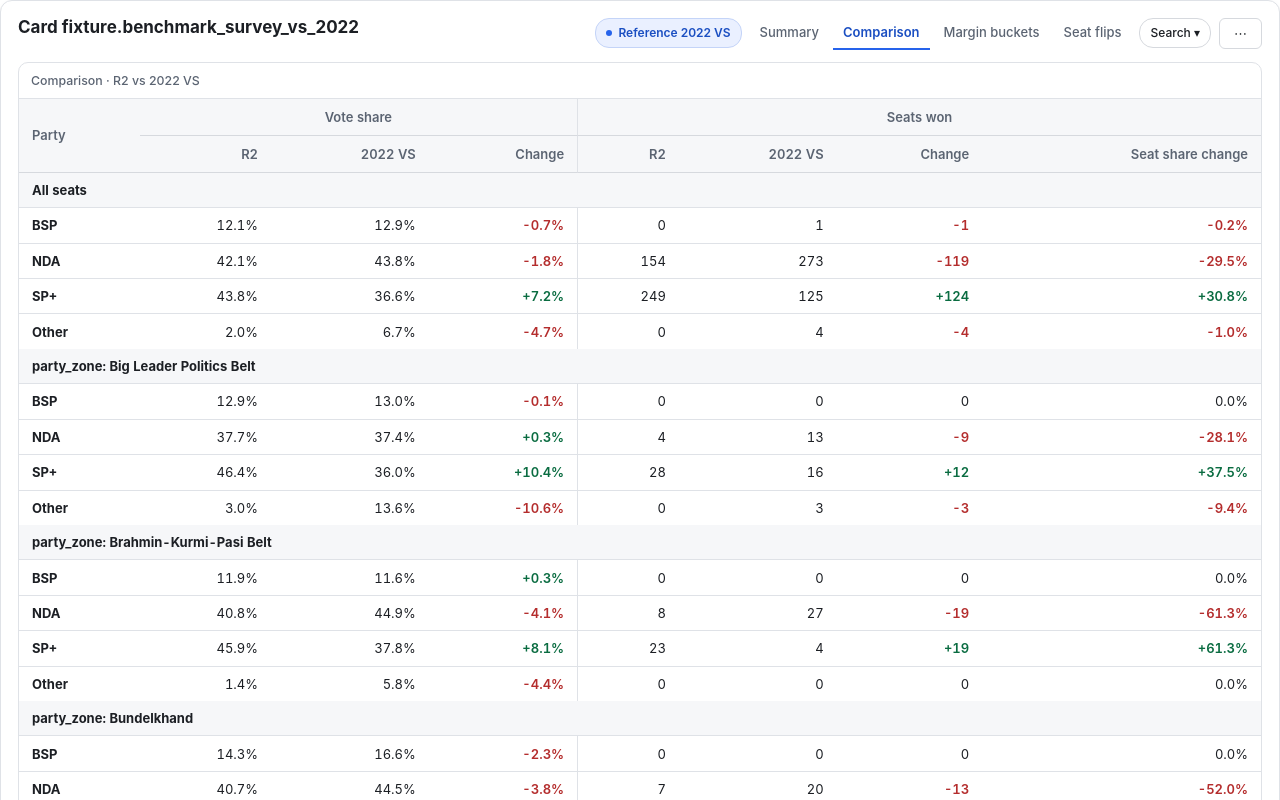
Scenario: BenchmarkCard › says so in words when a search matches nothing
Click the button "Search ▾" at (1175, 33), box [1140,18,1211,48]
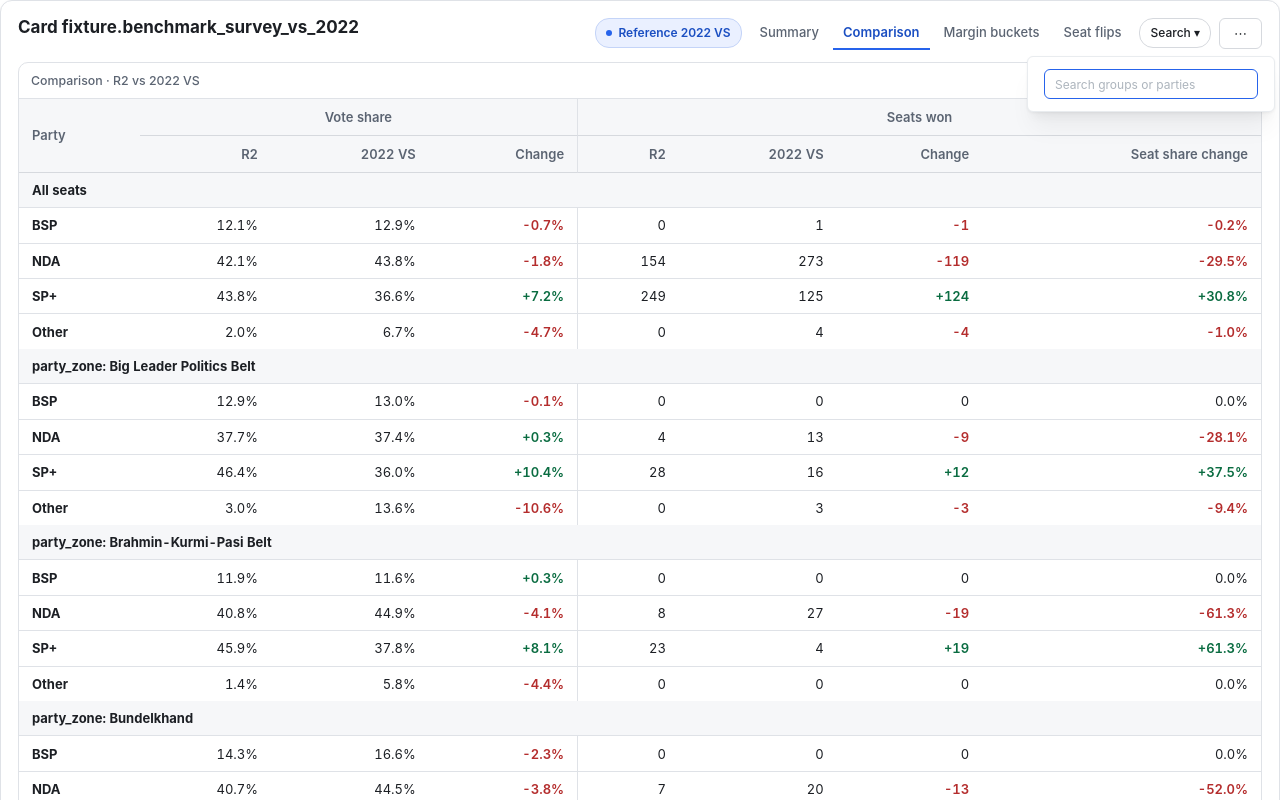
Type "zzzz" into the field named "Search rows" at (1151, 84), box [1044,69,1258,99]
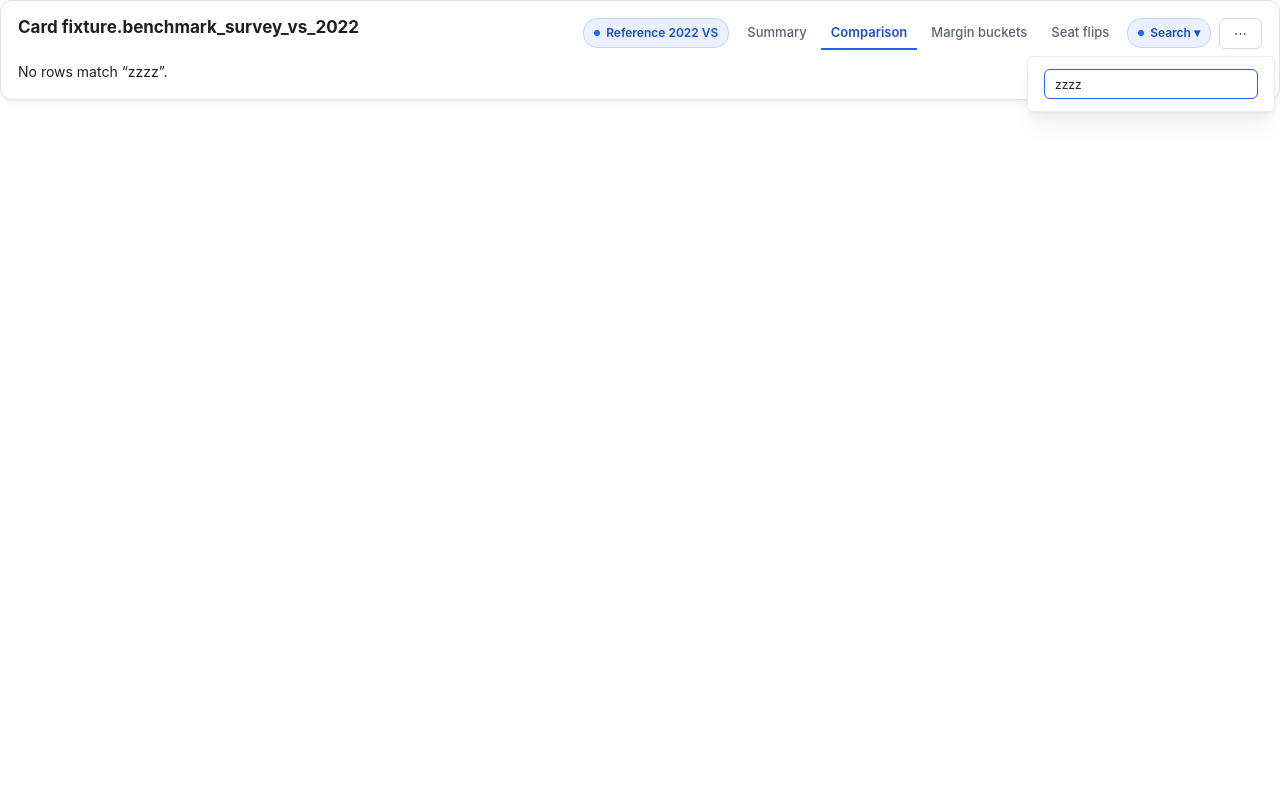
Expected: the text "No rows match “zzzz”." is shown, [18,63,168,80]
Expected: the table is gone
